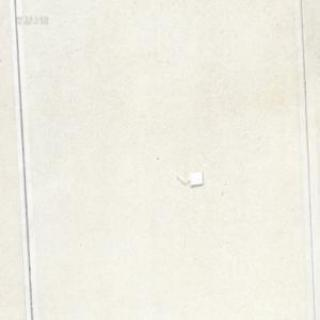LuggageTagtrack_idkeyframe: (175, 168, 202, 186)
